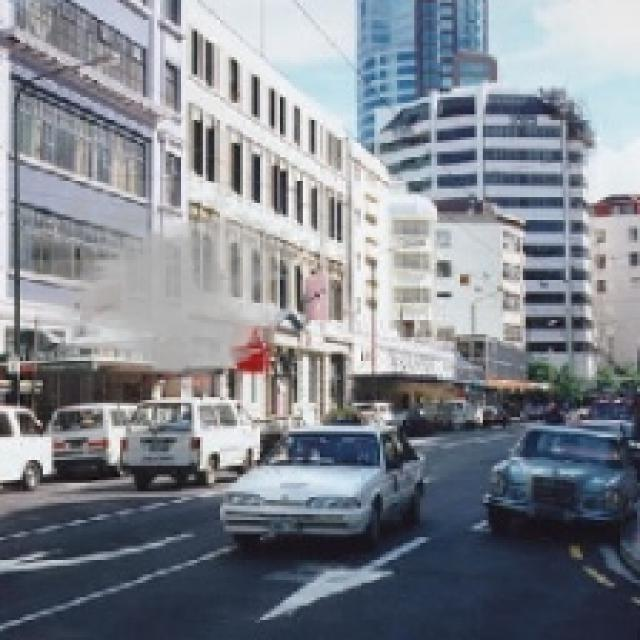Smoke: (34, 191, 300, 406)
